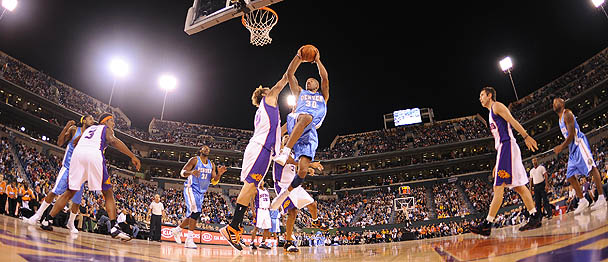basketball: (299, 42, 320, 66)
basketball player: (221, 50, 301, 250), (475, 88, 545, 231), (273, 42, 333, 206), (70, 114, 142, 240), (548, 97, 606, 208), (180, 145, 225, 249), (253, 178, 274, 251)
